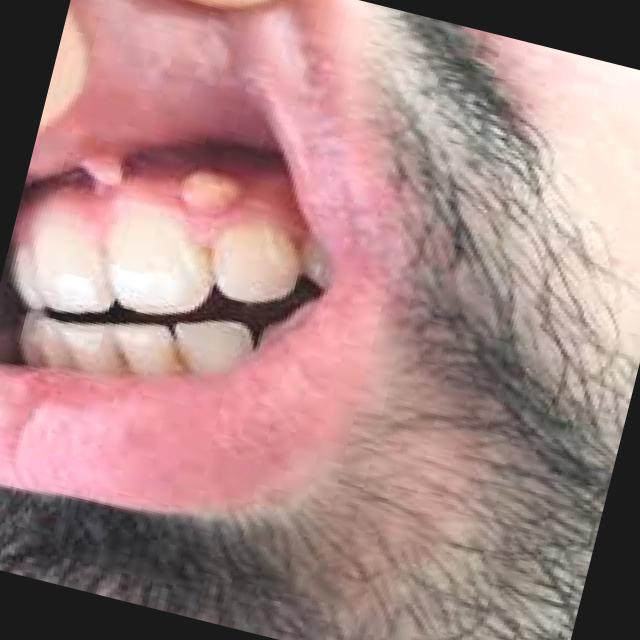abscess: (139, 138, 276, 242)
